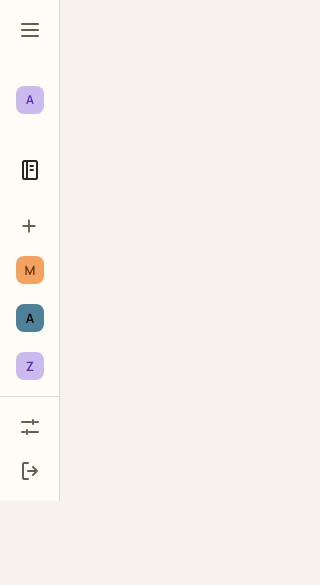
Test: SidePanel › refuses a blank name and cancels on Escape
The image size is (320, 585).
Click the button named "Create kitchen".
click(29, 226)  # box [7, 204, 51, 248]
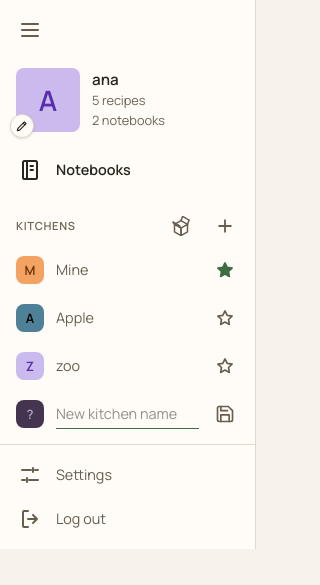
Click the button named "Save".
click(225, 414)  # box [203, 392, 247, 436]
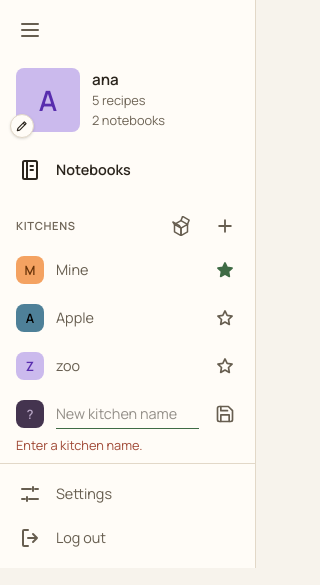
Check: the message "Enter a kitchen name." is shown, box [16, 436, 142, 454]
Press Escape in the field with placeholder "New kitchen name", box [56, 399, 199, 429]
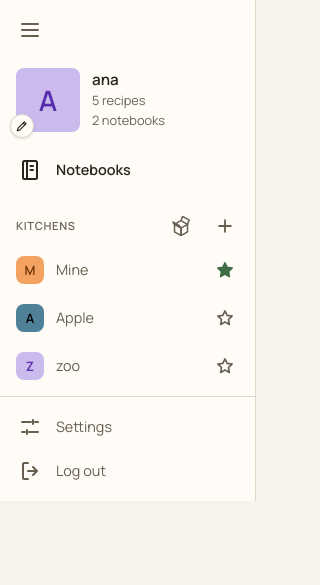
Check: the field is gone
